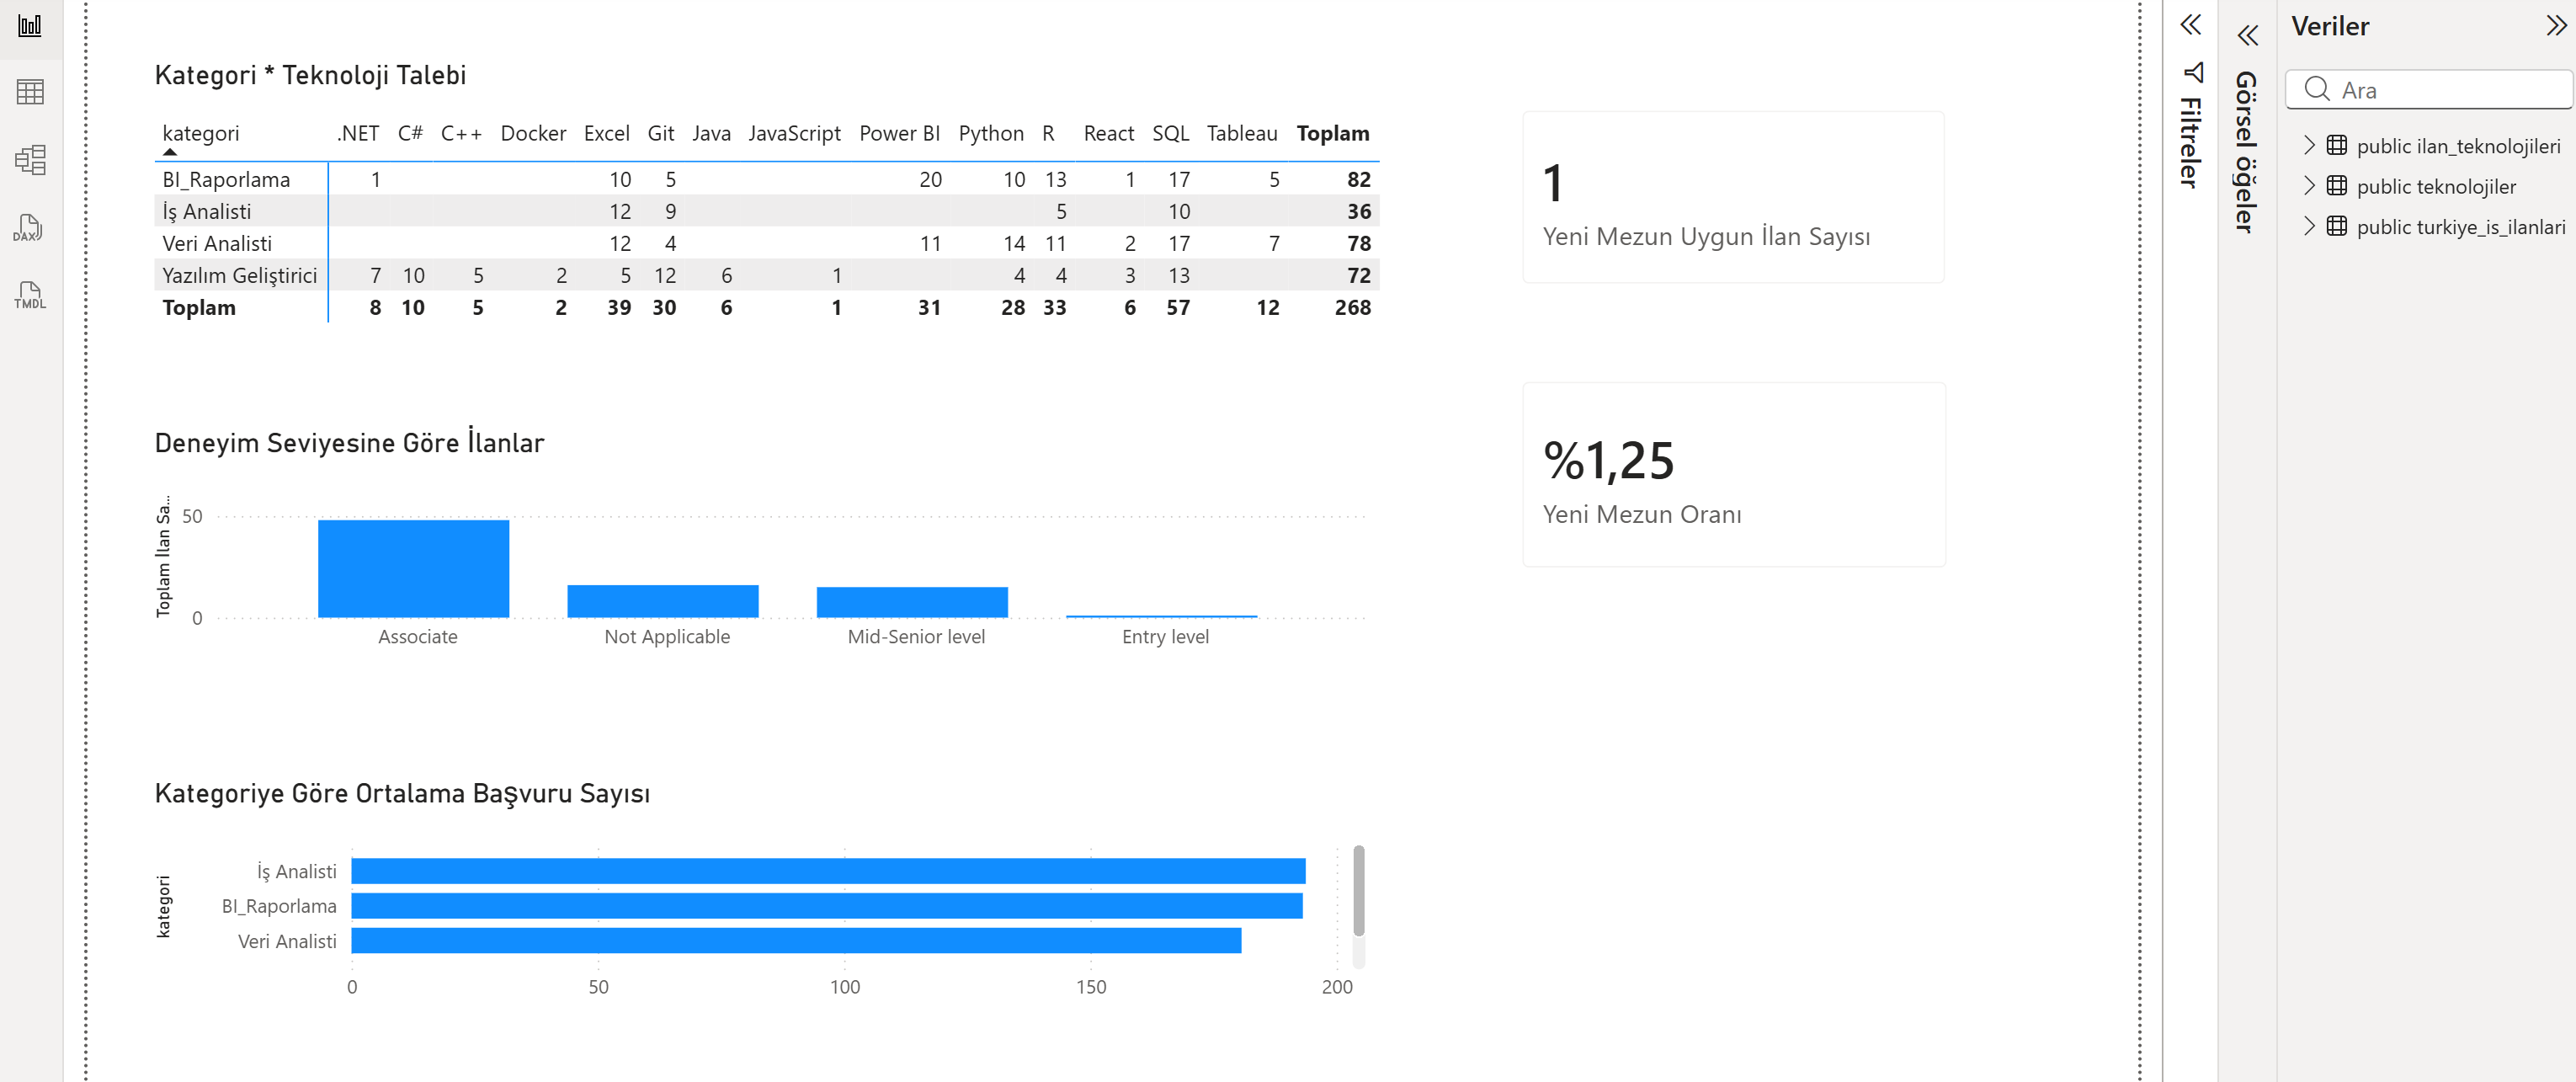

The page's visual inventory and layout, read from the dashboard file:
{"tool":"powerbi","page":{"name":"2. sayfa","canvas":[1280,720],"ordinal":1},"visuals":[{"type":"pivotTable","title":"Kategori * Teknoloji Talebi","fields":{"Rows":["public turkiye_is_ilanlari.kategori"],"Columns":["public teknolojiler.teknoloji_adi"],"Values":["public ilan_teknolojileri.Teknoloji Talep Sayısı"]},"box":[36.8,42.5,785.8,171.3],"z":0},{"type":"clusteredColumnChart","title":"Deneyim Seviyesine Göre İlanlar","fields":{"Category":["public turkiye_is_ilanlari.deneyim_seviyesi"],"Y":["public turkiye_is_ilanlari.Toplam İlan Sayısı"]},"box":[36.8,270.4,766,150.1],"z":1},{"type":"clusteredBarChart","title":"Kategoriye Göre Ortalama Başvuru Sayısı","fields":{"Category":["public turkiye_is_ilanlari.kategori"],"Y":["public ilan_teknolojileri.Ortalama Başvuru Sayısı"]},"box":[36.8,488.5,766,150],"z":2},{"type":"cardVisual","title":"Yeni Mezunlara Uygun İlan Sayısı","fields":{"Data":["public turkiye_is_ilanlari.Yeni Mezun Uygun İlan Sayısı"]},"box":[878.6,56.6,298.8,142.3],"z":3},{"type":"cardVisual","fields":{"Data":["public ilan_teknolojileri.Yeni Mezun Oranı"]},"box":[878.6,225.8,299,150],"z":4}]}

Visuals, with their boxes on the page's 1280x720 design canvas (x1, y1, x2, y2). These are canvas units, not pixel positions in the 2576x1082 screenshot, which may show the page scaled, cropped or inside an application window:
"Kategori * Teknoloji Talebi" pivotTable: [37,42,823,214]
"Deneyim Seviyesine Göre İlanlar" clusteredColumnChart: [37,270,803,420]
"Kategoriye Göre Ortalama Başvuru Sayısı" clusteredBarChart: [37,488,803,638]
"Yeni Mezunlara Uygun İlan Sayısı" cardVisual: [879,57,1177,199]
cardVisual - public ilan_teknolojileri.Yeni Mezun Oranı: [879,226,1178,376]
